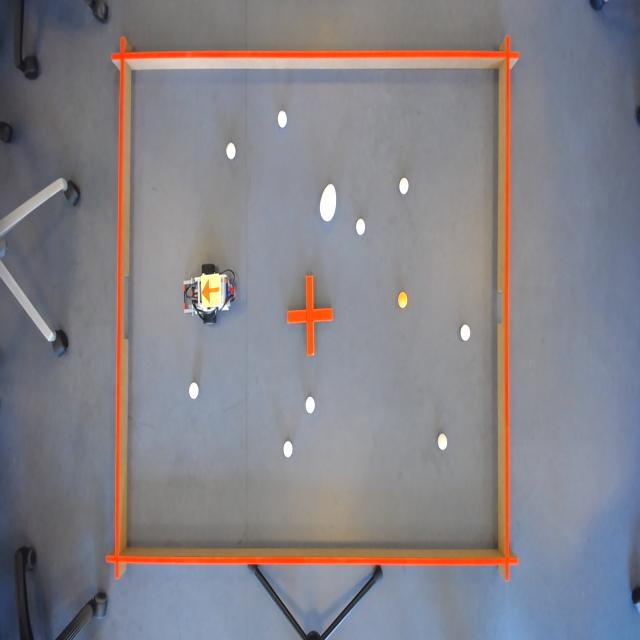cross: (286, 274, 333, 358)
egg: (318, 182, 338, 224)
orange_ball: (396, 288, 408, 313)
robot: (200, 273, 222, 309)
white_ball: (436, 430, 450, 455), (458, 320, 472, 345), (224, 138, 237, 164), (282, 438, 296, 462), (188, 378, 200, 404), (276, 107, 289, 131), (304, 394, 316, 417), (398, 176, 411, 197), (356, 214, 366, 240)
